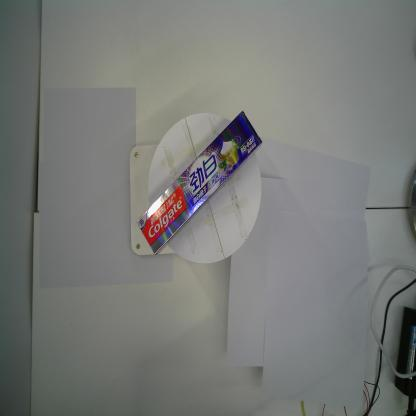Personal Hygiene: (134, 108, 265, 258)
